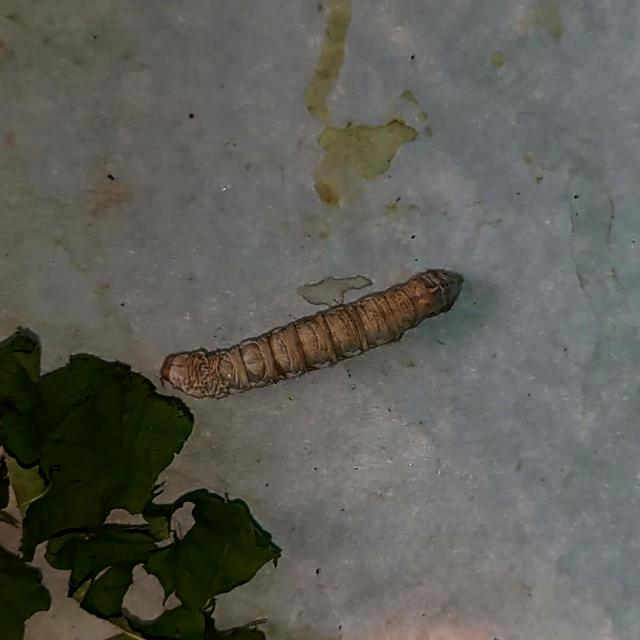Grasserie: (153, 257, 470, 402)
